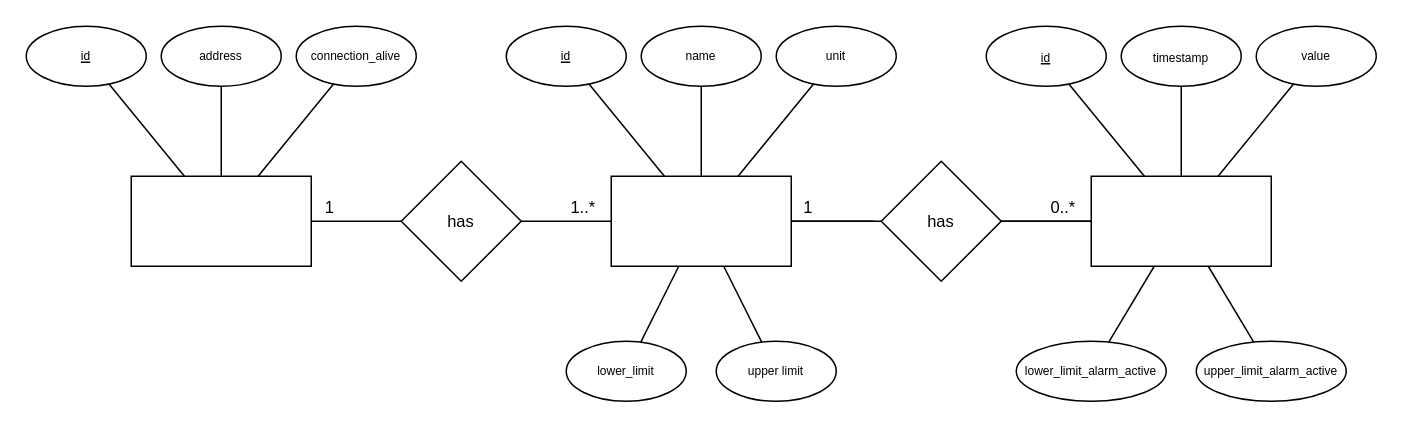
Image size: 1403x428. Some labels were removed from this diagram. The box of each missing label's shape, as (x1, y1, x2, y2) in pixels:
sensor: (610, 175, 791, 266)
sensor_station: (130, 175, 311, 266)
sensor_value: (1090, 175, 1271, 266)
